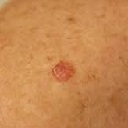Carcinoma: (49, 58, 76, 85)
